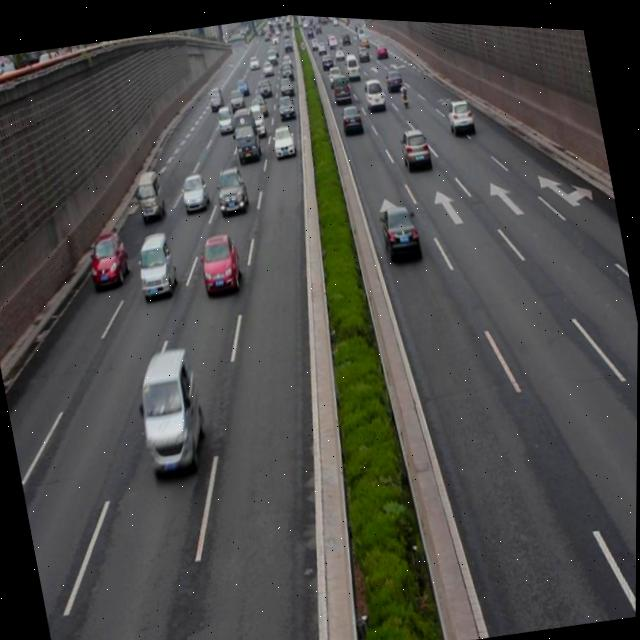car: (197, 227, 246, 296), (86, 227, 133, 289), (376, 194, 421, 257), (212, 160, 250, 214), (396, 120, 432, 170), (179, 167, 212, 212), (445, 92, 475, 132), (269, 119, 297, 159), (337, 98, 365, 135)
truck: (129, 341, 212, 474), (131, 226, 180, 297), (229, 102, 262, 160), (132, 165, 167, 218)
